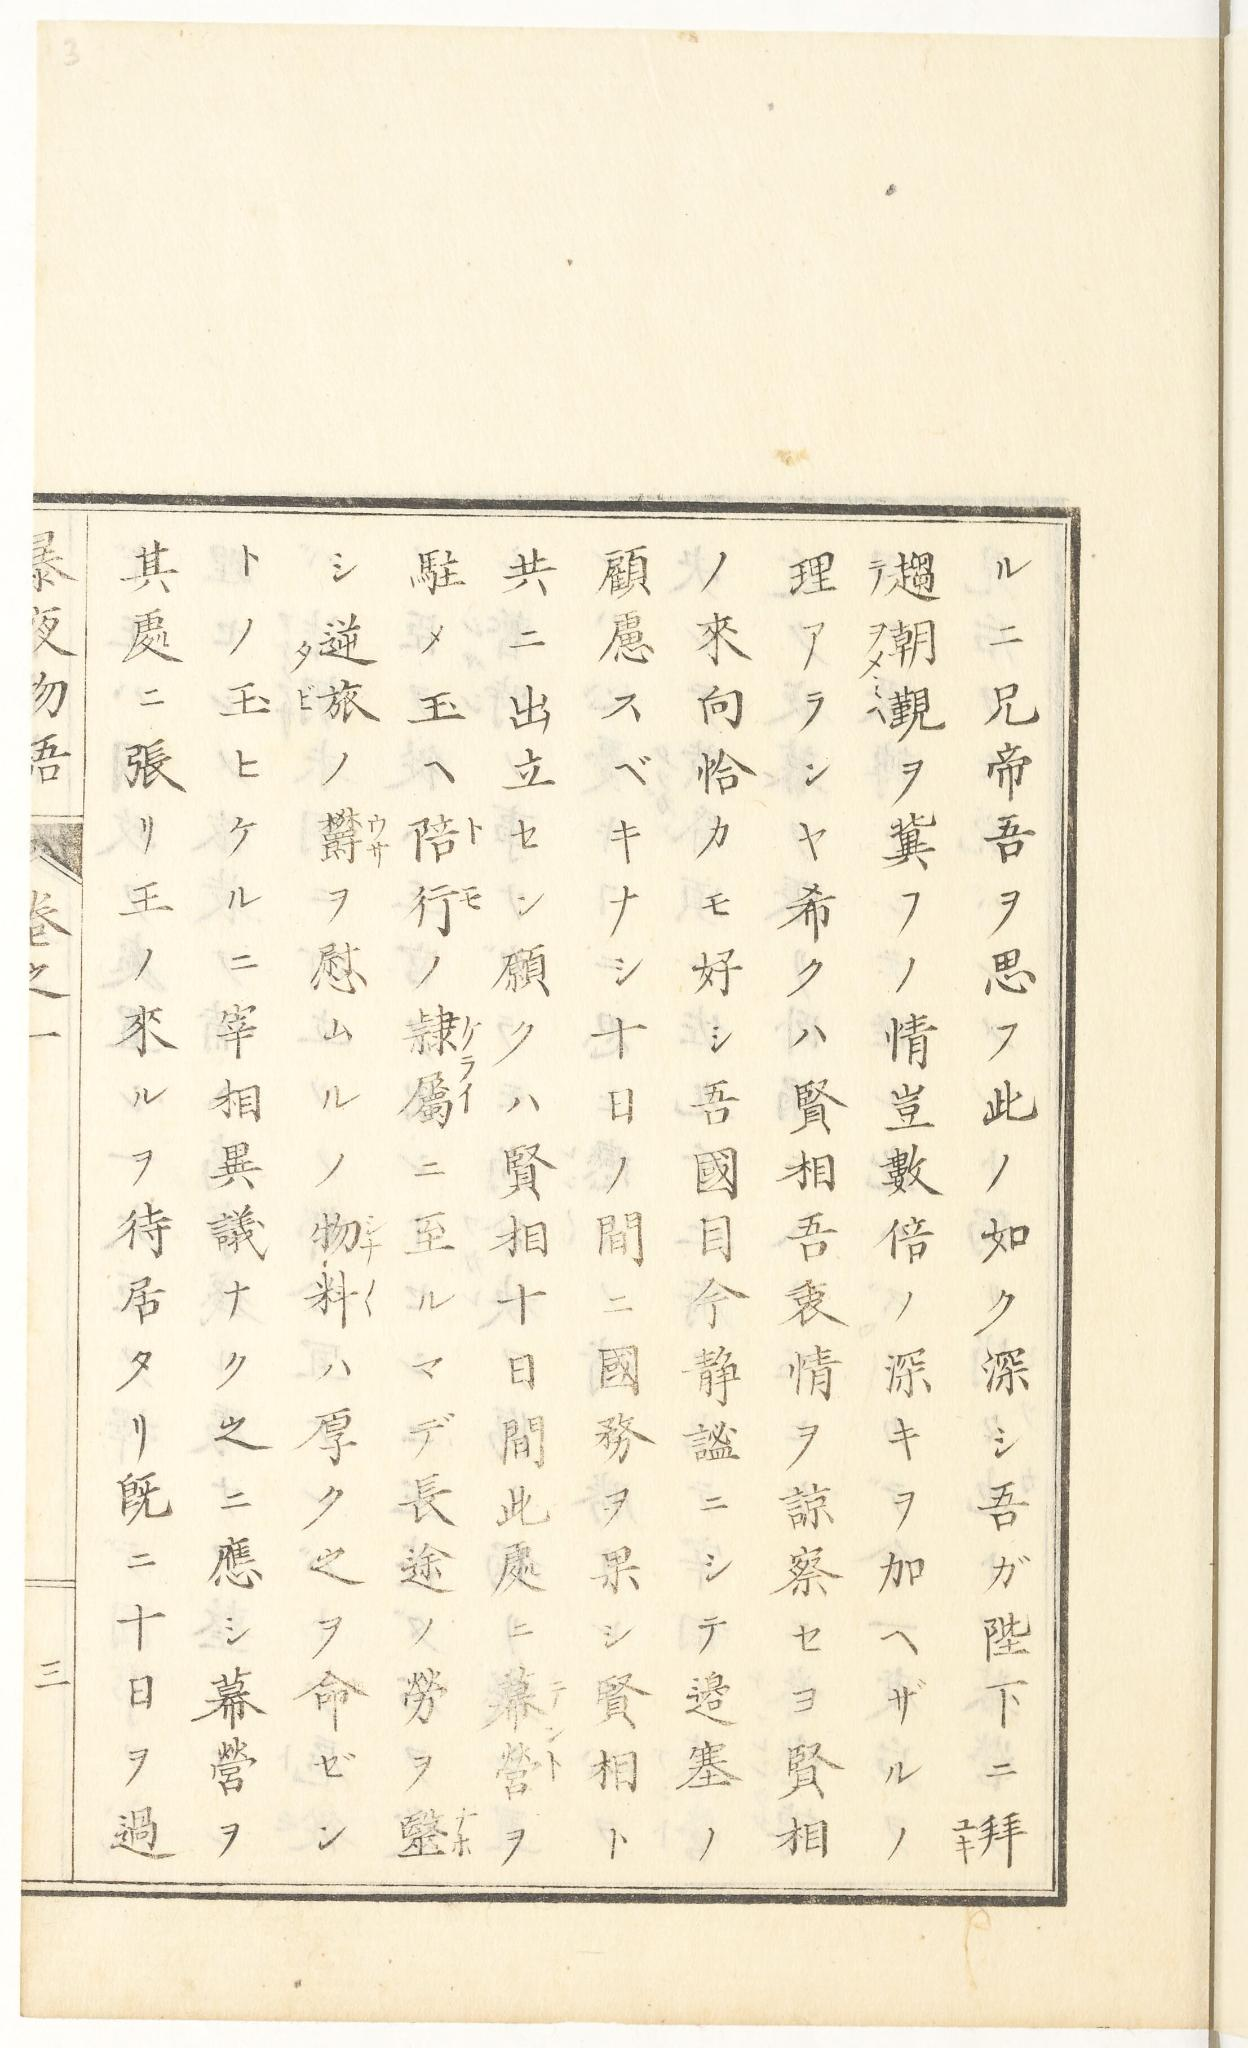MainZone-Character: (385, 1801, 487, 1871), (401, 1055, 487, 1135), (474, 1662, 572, 1729), (486, 1723, 574, 1796), (396, 998, 489, 1059), (408, 882, 490, 942), (316, 806, 395, 867), (407, 810, 492, 867)
MainZone-Ruby: (448, 1804, 484, 1865), (543, 1725, 572, 1782), (369, 809, 396, 866), (455, 1059, 481, 1118), (458, 1004, 487, 1055), (543, 1666, 572, 1714), (461, 807, 493, 847), (464, 882, 489, 917)
